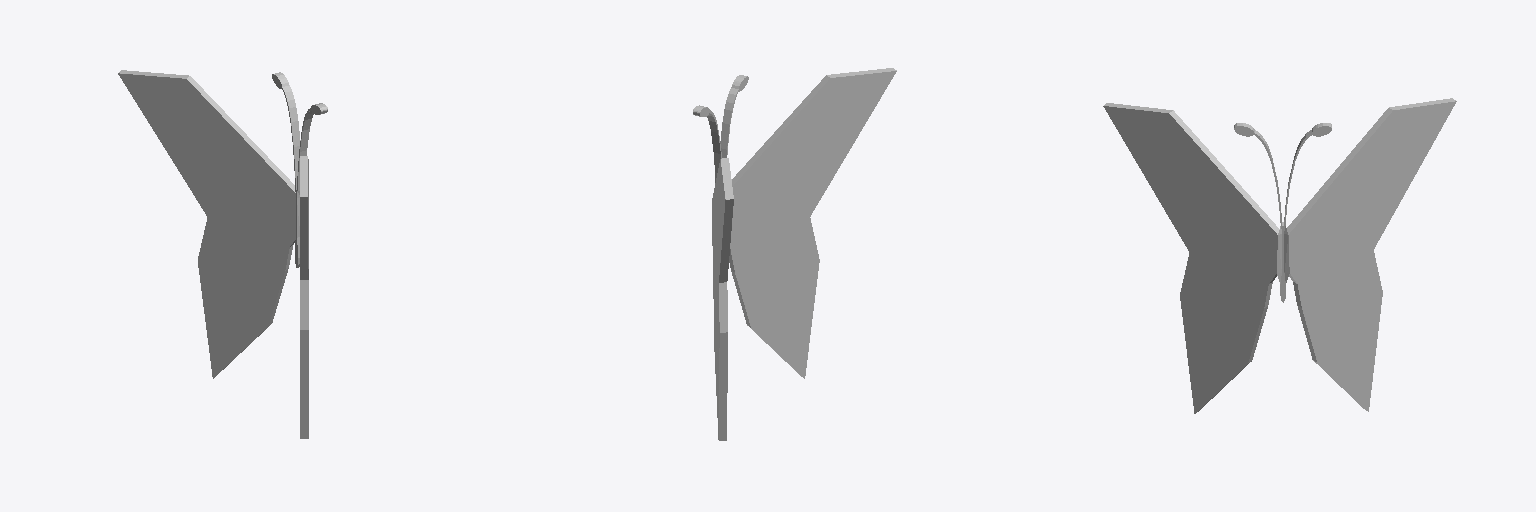
File: ButterflyUp.obj
3 views of the same model, side by side, from view 1: azimuth 30°, elevation 25°; view 2: azimuth 150°, elevation 25°; view 3: azimuth 270°, elevation 25° (orthographic).
Parts seen in each view (by area): view 1: Plane.001; view 2: Plane.001; view 3: Plane.001.
Boxes of the visible parts, <box> form: Plane.001: <box>118,70,327,438</box>; Plane.001: <box>693,68,896,440</box>; Plane.001: <box>1103,98,1456,413</box>.
Bounding box in the file's own units: 1.47 × 4.15 × 4.32.